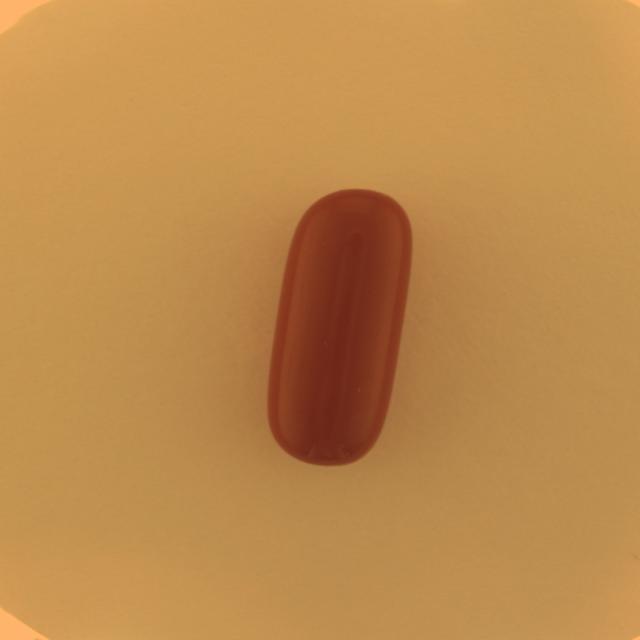Oval: (265, 184, 415, 471)
